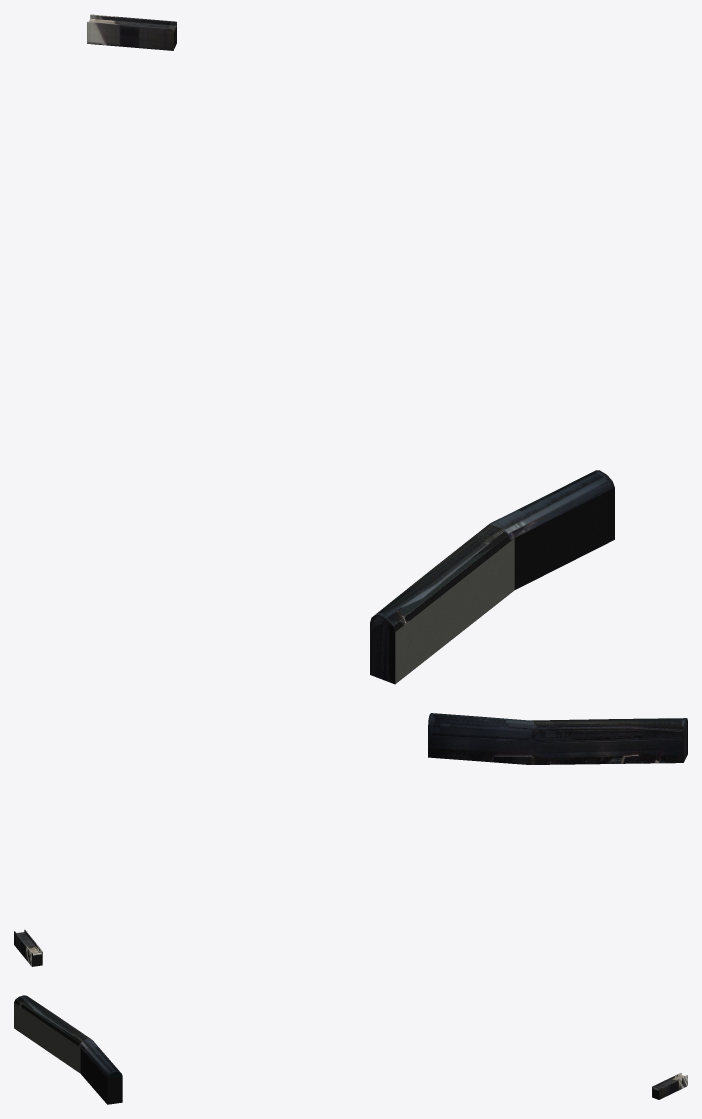
File: 53393595_brid.glb
3 renders of one model, top to bottom at view 1: azimuth 30°, elevation 25°; view 2: azimuth 150°, elevation 25°; view 3: azimuth 270°, elevation 25°, orthographic. The views are drawn at different scales.
Visible parts, largest first — view 1: 53393595_brid; view 2: 53393595_brid; view 3: 53393595_brid.
Part boxes in pixels (box(x1,y1,x2,y2)): 53393595_brid: box(87, 14, 614, 684); 53393595_brid: box(14, 713, 687, 966); 53393595_brid: box(14, 995, 687, 1104).
Bounding box in the file's own units: 114 × 21.58 × 305.
Materials: 1 (1 with a texture image).
